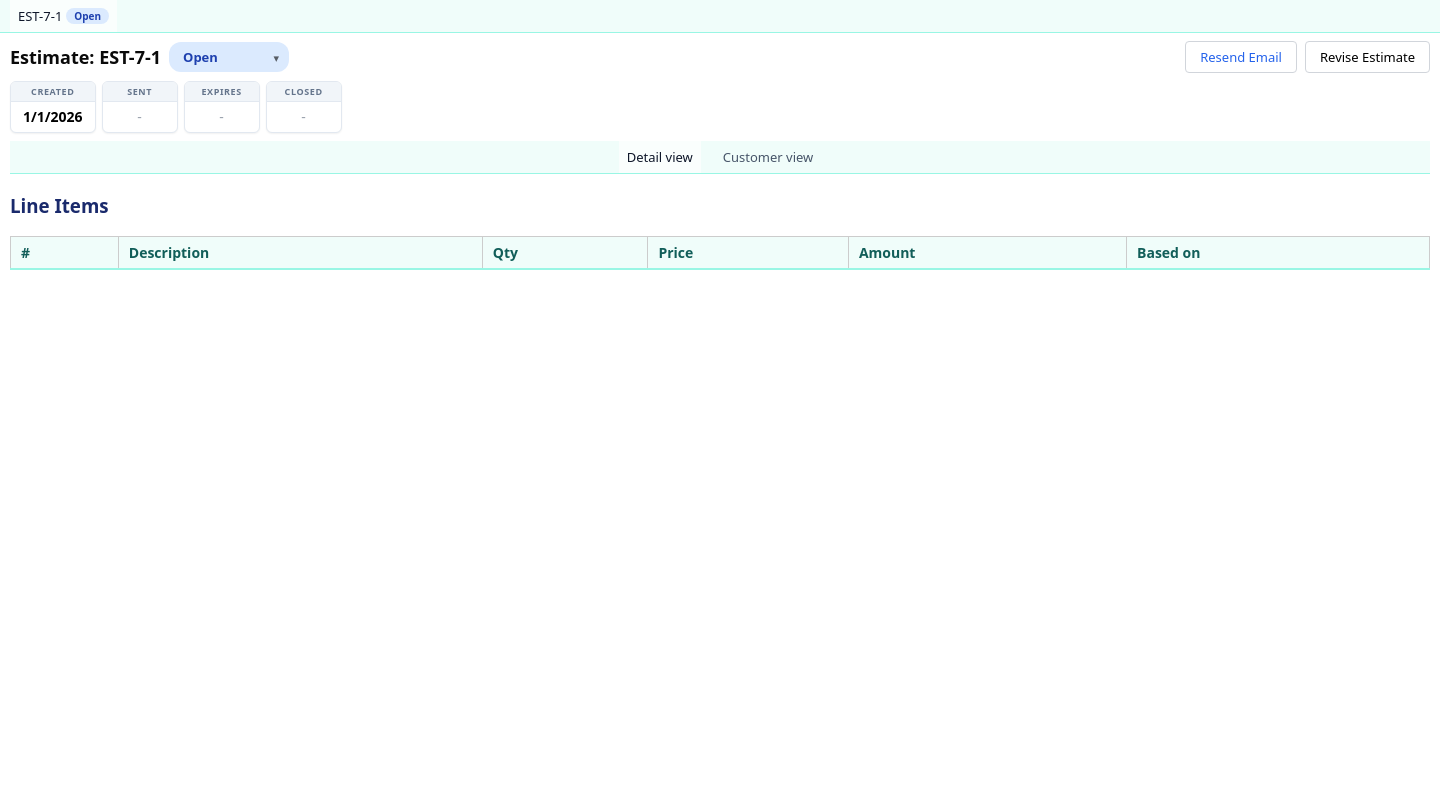
EstimatePanel Send Email deliverables gate › Resend Email on an open estimate opens the send modal regardless of deliverables
Click the button "Resend Email" at x=1241, y=57, box [1185,41,1297,73]
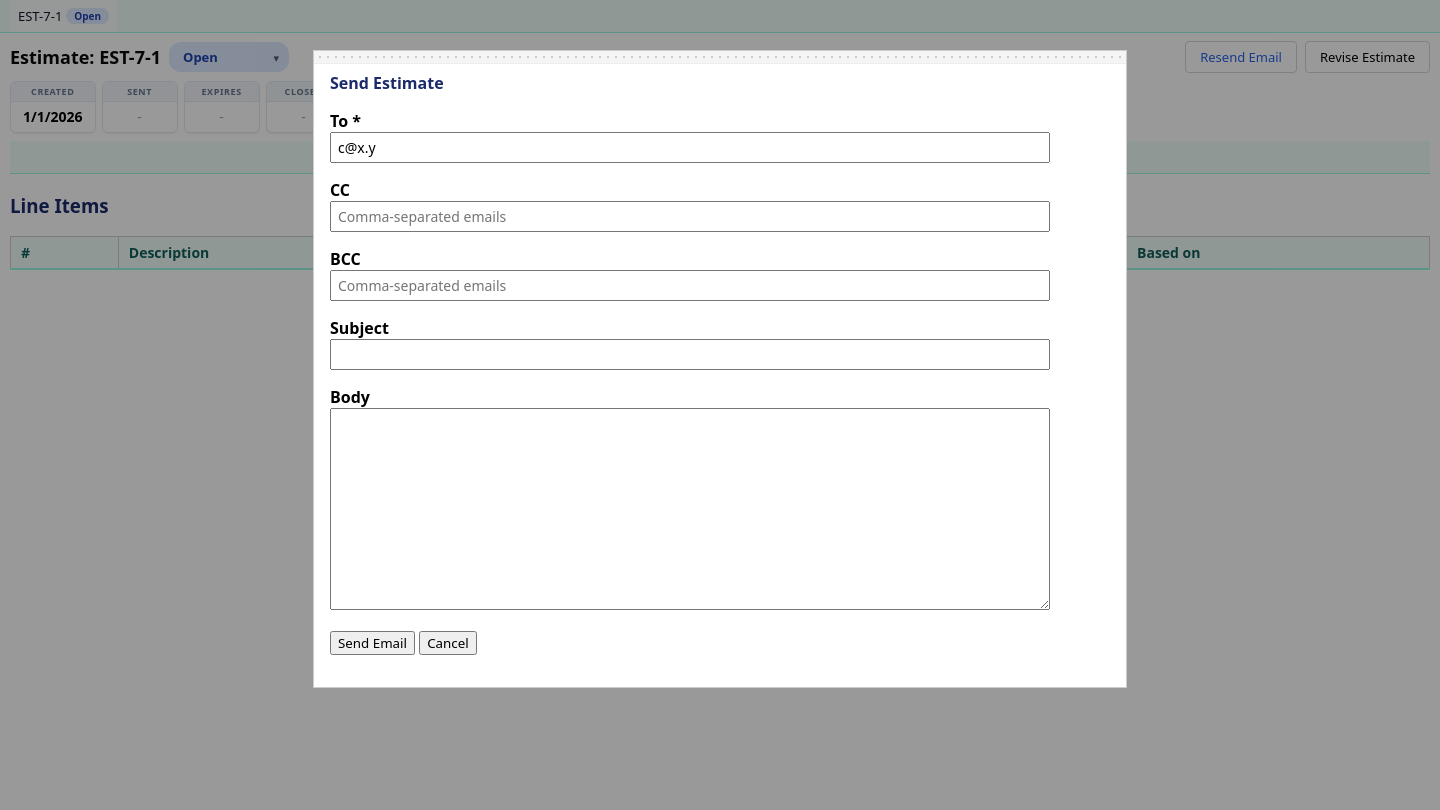
Now the dialog "Send Estimate" is shown, box [313,50,1127,688]
